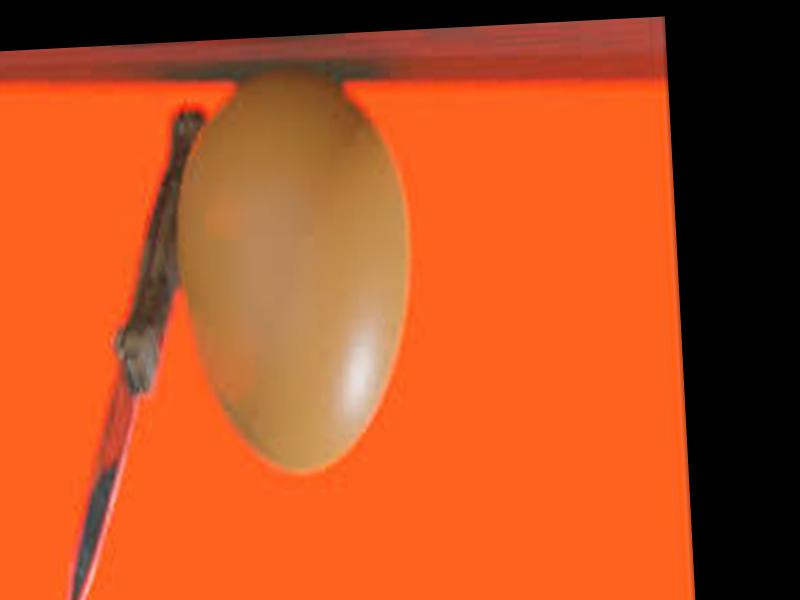Eggs: (171, 72, 417, 473)
